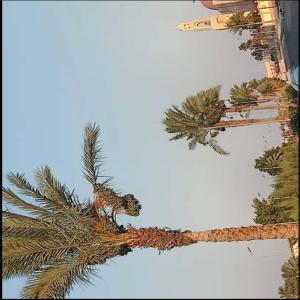palm tree: (2, 120, 298, 299)
